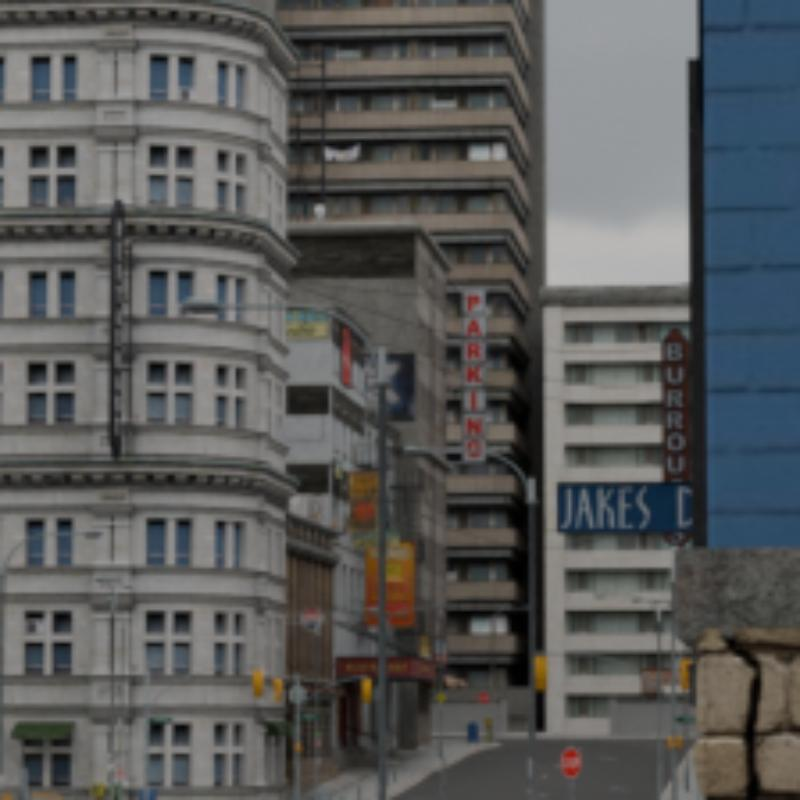pothole: (721, 636, 757, 796)
